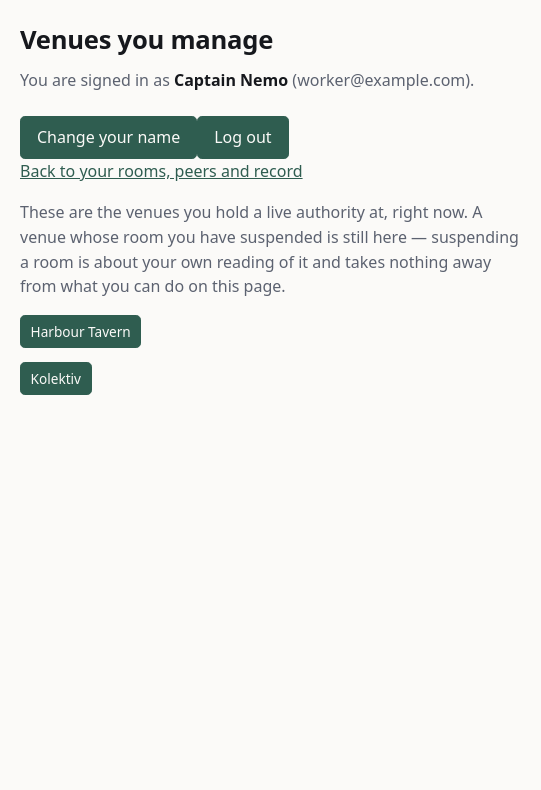
Test: a shift's roster › reads the roster of the shift that was opened
Click the button "Harbour Tavern" at x=81, y=332, box [20,315,141,348]
(page scrolled)
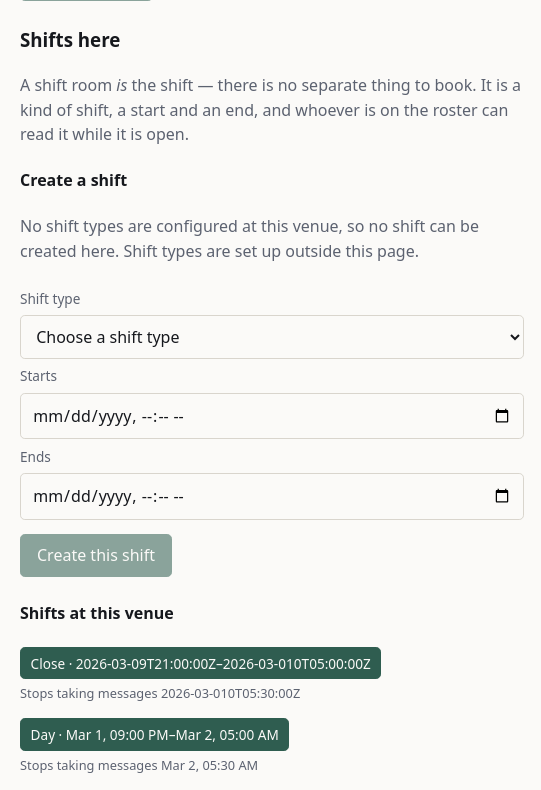
Click the button "Close · 2026-03-09T21:00:00Z–2026-03-010T05:00:00Z" at x=201, y=663, box [20,647,381,680]
(page scrolled)
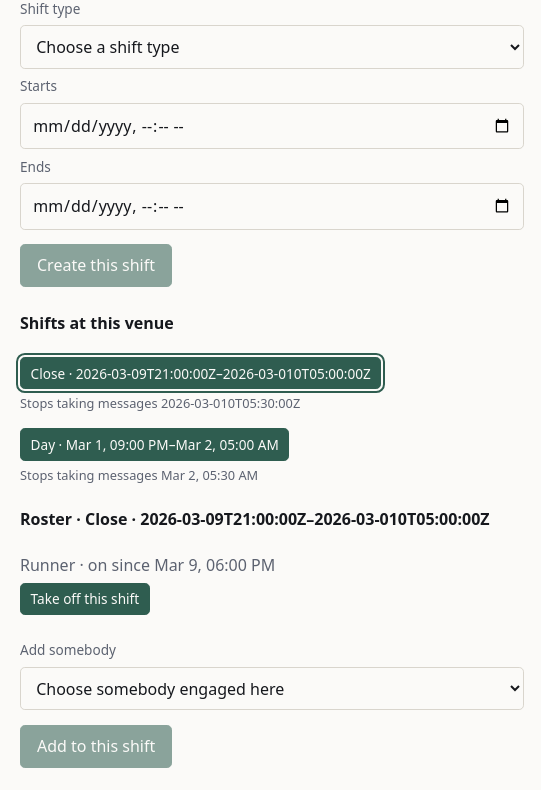
Expected: the list named "on this shift" shows "Runner", [20,554,275,576]
